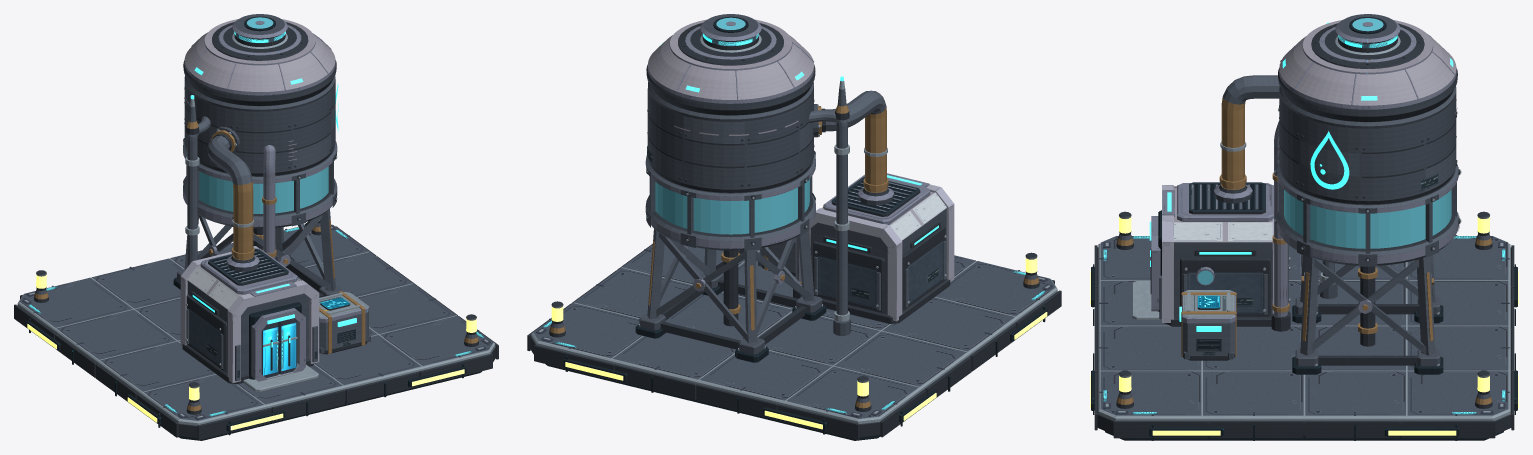
Rendered from TA02_TorreDeAguaModular.fbx.
3 views of the same model, side by side, from view 1: azimuth 30°, elevation 25°; view 2: azimuth 150°, elevation 25°; view 3: azimuth 270°, elevation 25° (orthographic). The views are drawn at different scales.
Visible parts, largest first — view 1: Estructura_2, CristalYAgua_2; view 2: Estructura_2, CristalYAgua_2; view 3: Estructura_2, CristalYAgua_2.
Part boxes in pixels (x1,y1,x2,y2): Estructura_2: (14,14,498,440); CristalYAgua_2: (199,17,328,213); Estructura_2: (527,14,1061,440); CristalYAgua_2: (655,17,809,234); Estructura_2: (1090,14,1518,440); CristalYAgua_2: (1197,18,1451,284).
Bounding box in the file's own units: 5.7 × 4.89 × 5.48.
